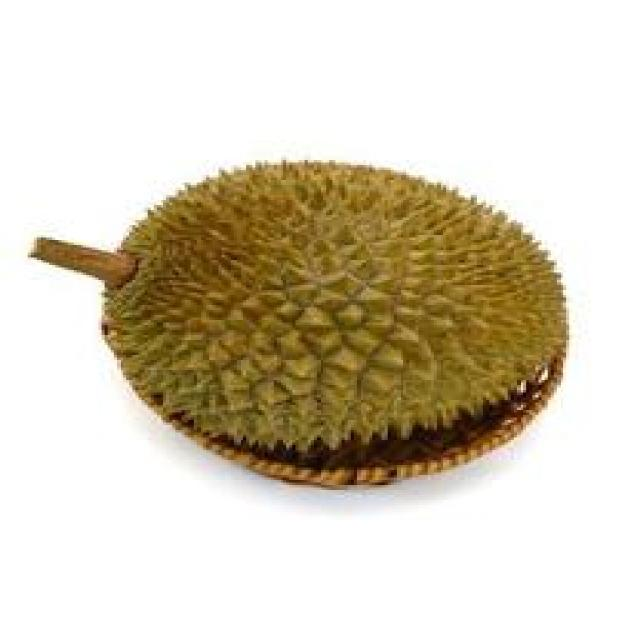fruit: (64, 125, 430, 510), (259, 145, 603, 515)
